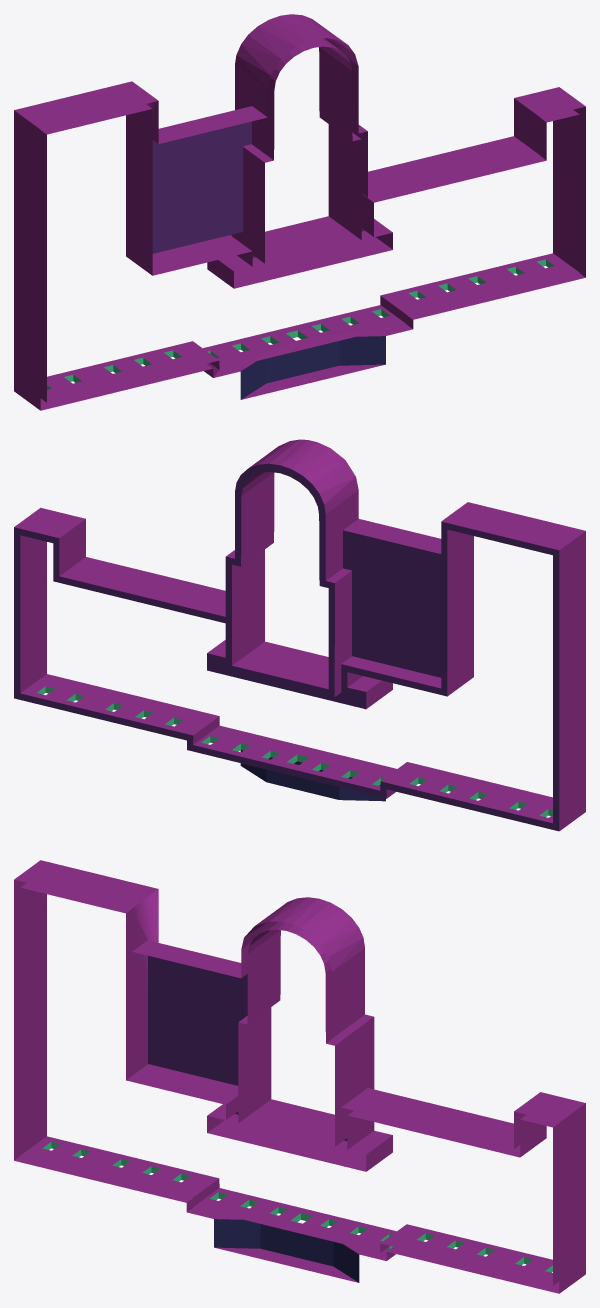
File: Muzeum Malczewskigo Tier 1.fbx
The picture shows the model from 3 angles, top to bottom: view 1: azimuth 30°, elevation 25°; view 2: azimuth 150°, elevation 25°; view 3: azimuth 330°, elevation 25°; orthographic projection.
Visible parts, largest first — view 1: Cylinder.003; view 2: Cylinder.003; view 3: Cylinder.003.
Part boxes in pixels (x1,y1,x2,y2): Cylinder.003: (14, 14, 585, 410); Cylinder.003: (14, 439, 585, 831); Cylinder.003: (14, 860, 585, 1293).
Size of the model in its own units: 3.8 by 2.28 by 0.3991.
